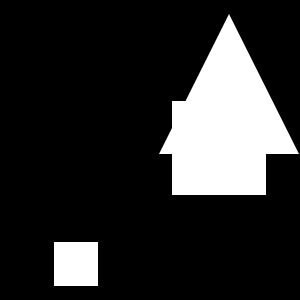circle: (172, 101, 266, 195), (54, 242, 98, 286)
triangle: (159, 14, 299, 154)
